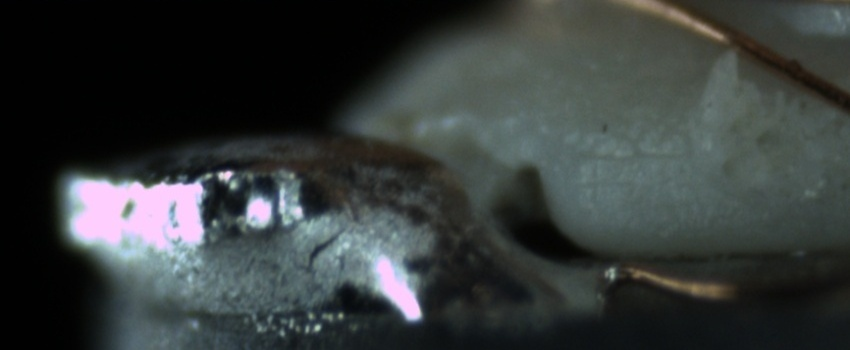DL: (565, 122, 705, 187)
